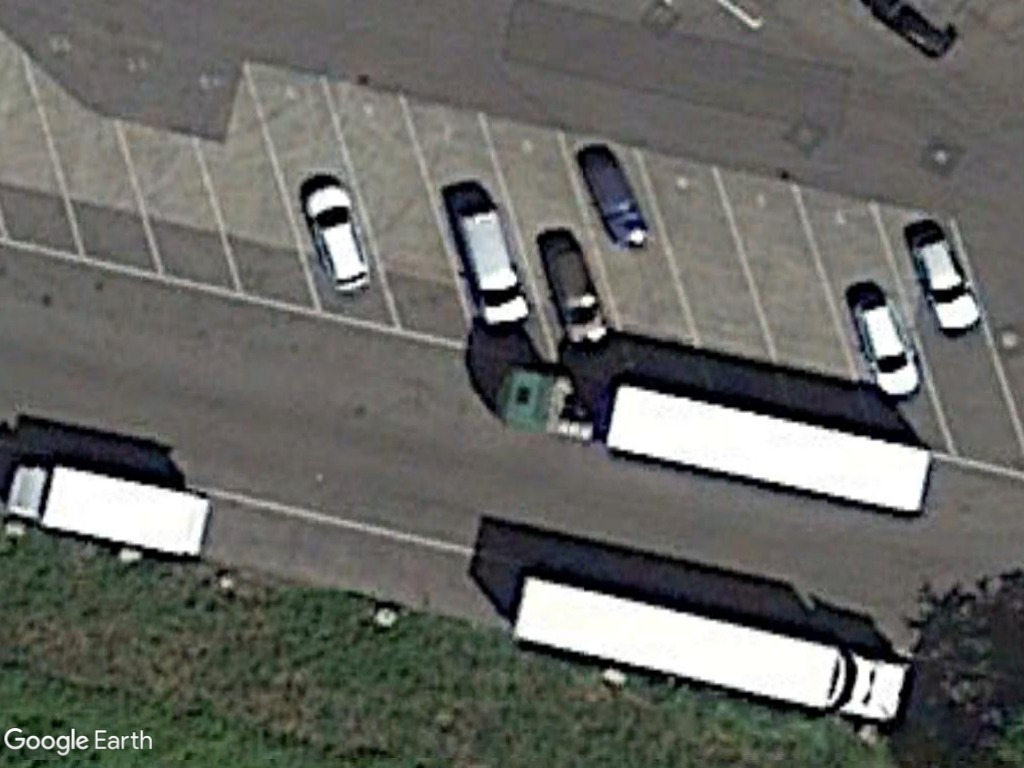car: (298, 179, 379, 300), (903, 224, 985, 337), (849, 285, 928, 402), (574, 147, 655, 254), (538, 229, 608, 345)
longvehicle: (497, 362, 941, 527), (497, 567, 915, 730)
truck: (0, 454, 217, 561)
van: (449, 197, 534, 335)
